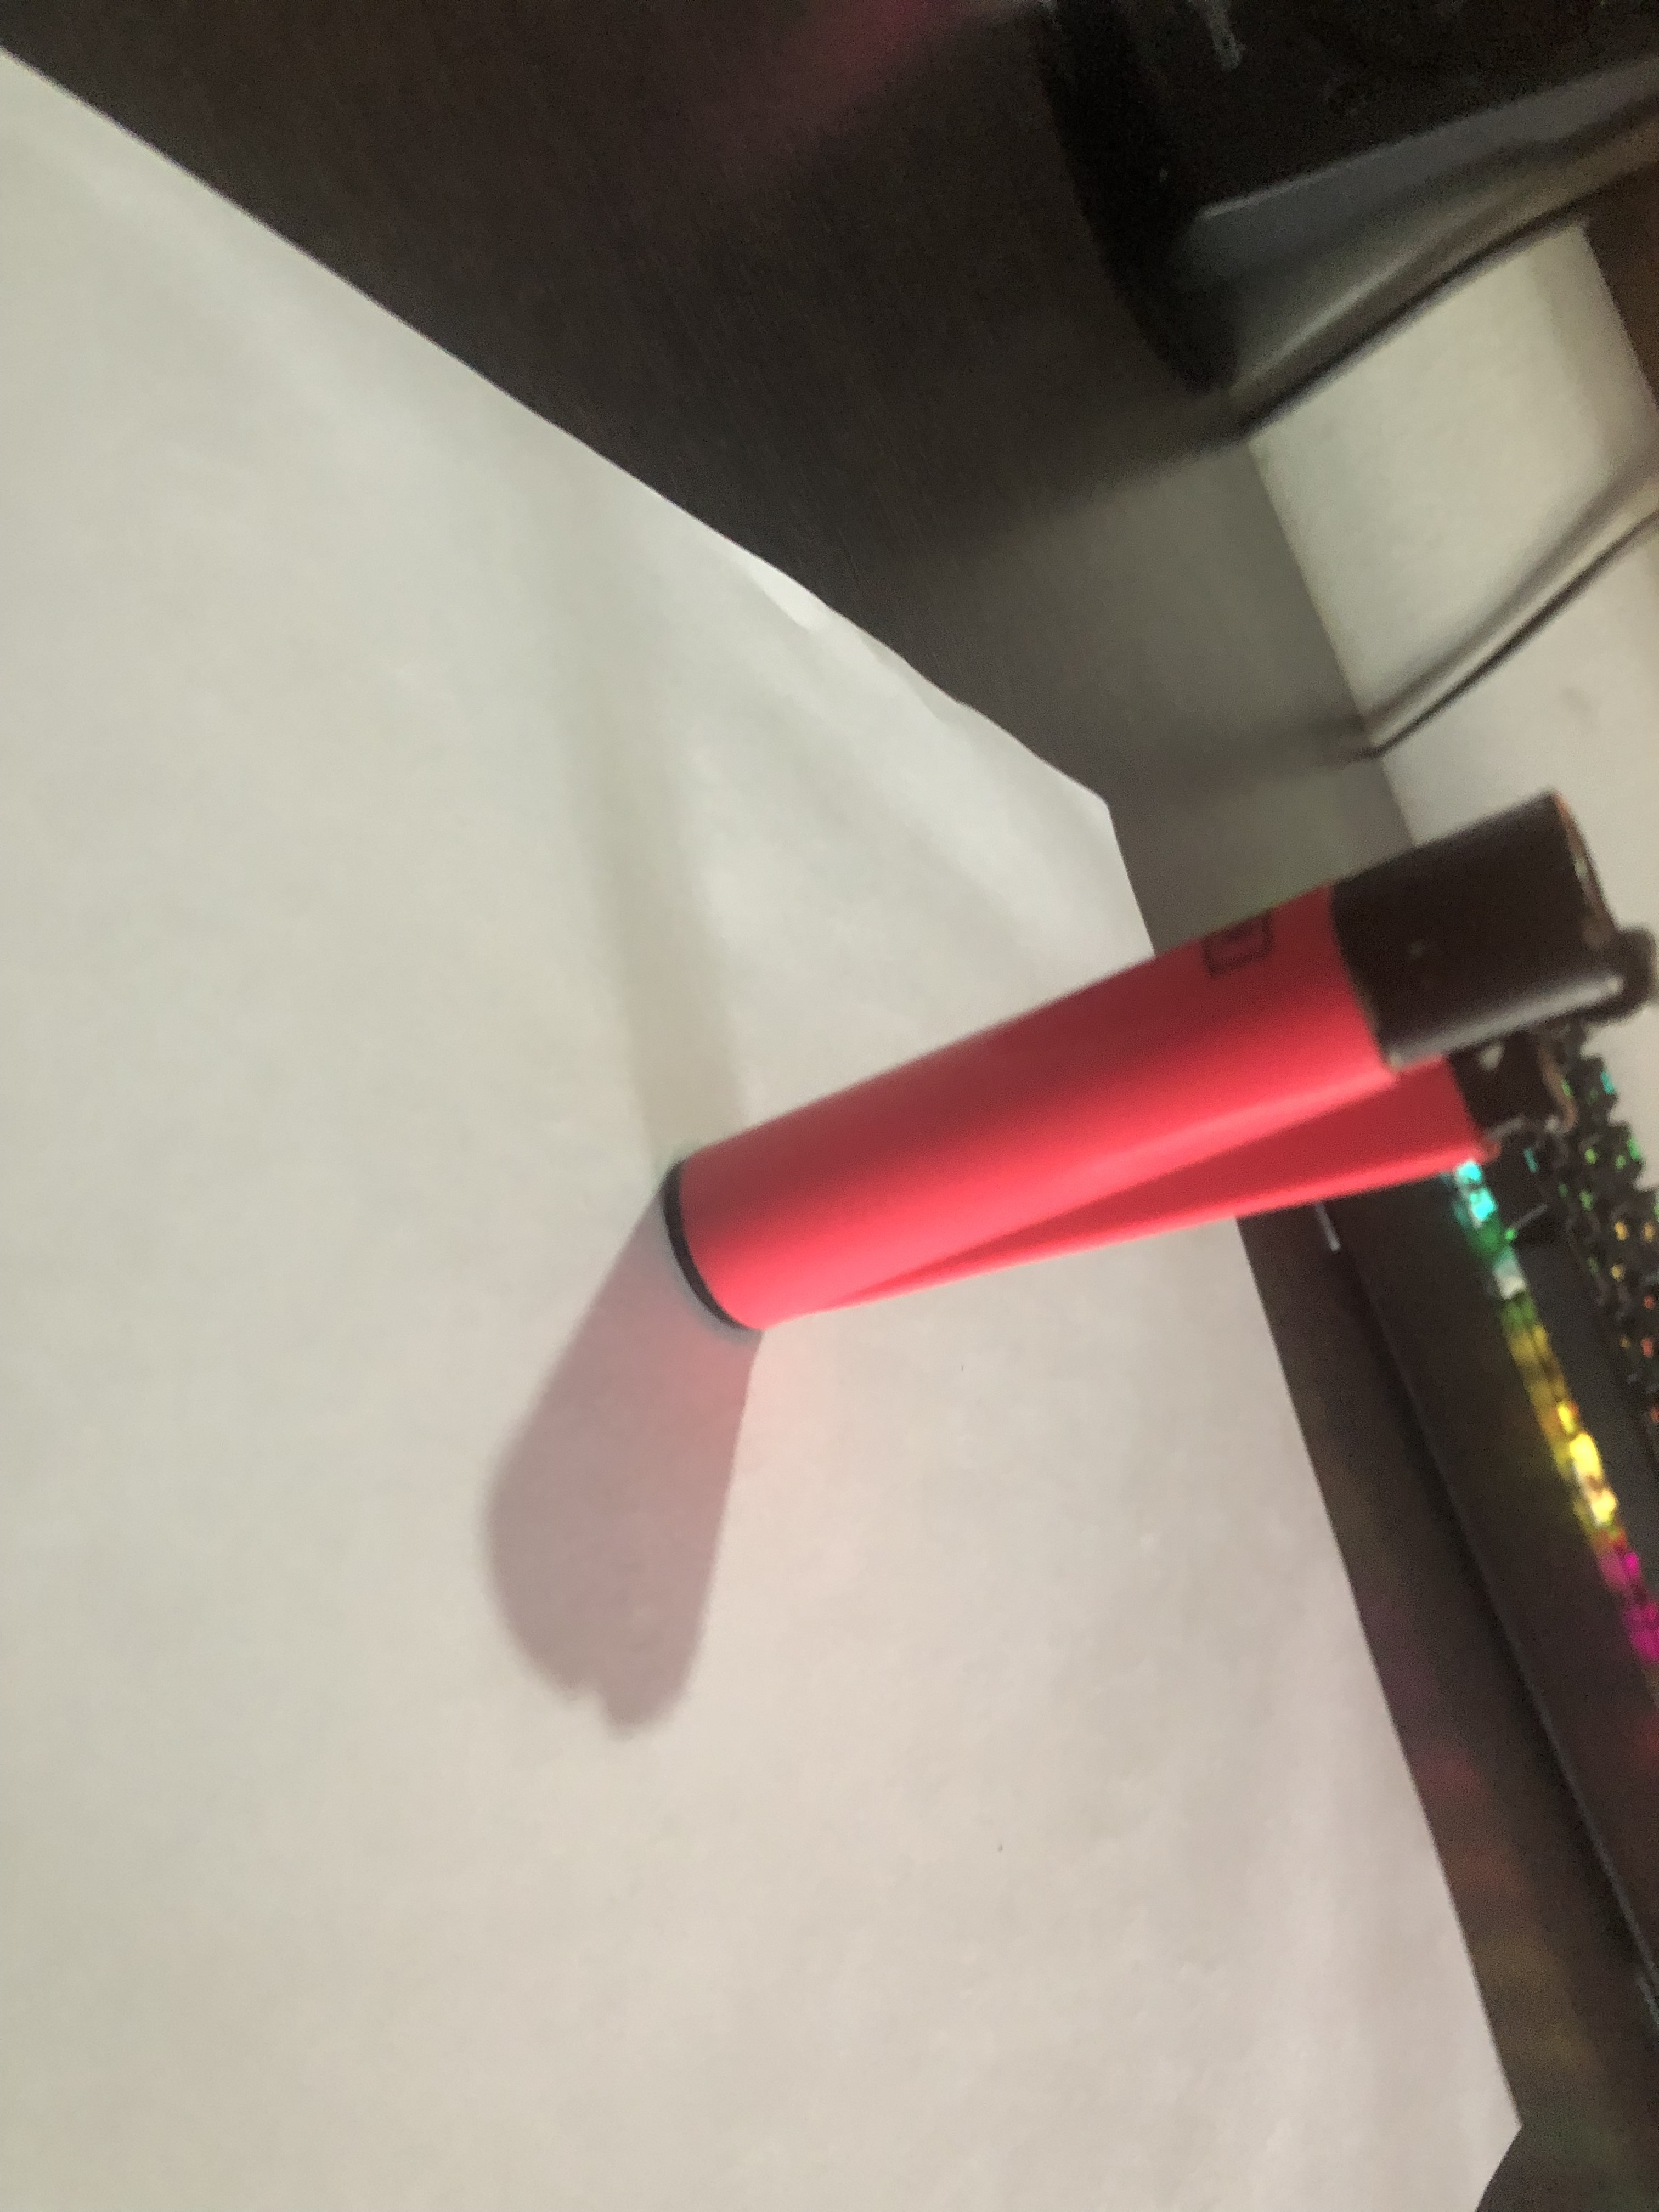Mechero: (612, 716, 1642, 1287)
